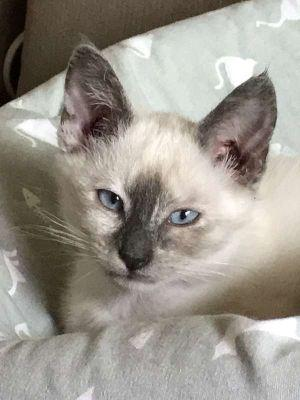siamese: (46, 41, 280, 299)
